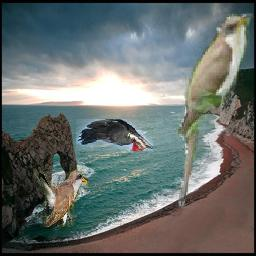Cuckoo: (176, 8, 256, 208), (26, 149, 88, 227)
Woodpecker: (77, 119, 154, 151)
